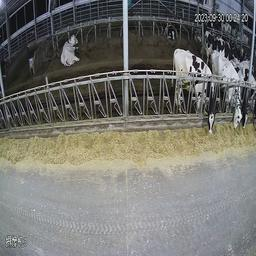cow: (173, 46, 214, 136), (215, 48, 241, 130), (61, 30, 78, 68), (242, 63, 251, 128), (163, 19, 178, 40)
